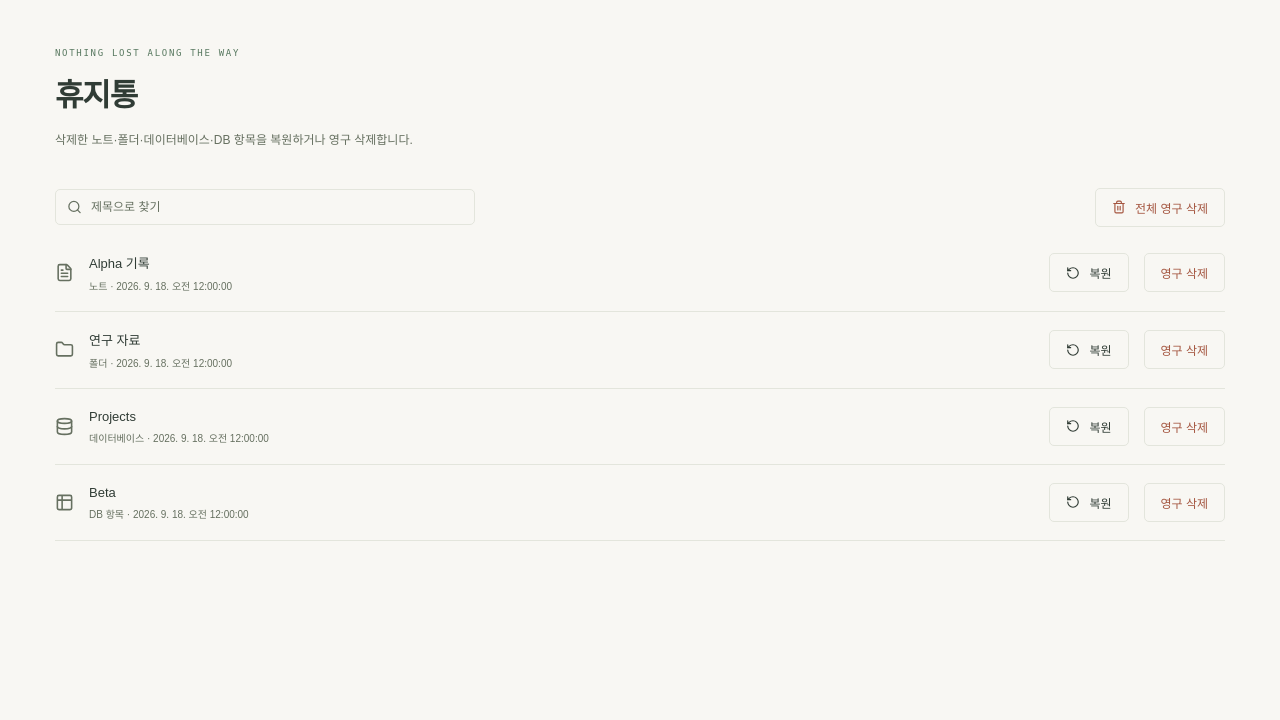
Test: a changed confirmation snapshot is never replaced or retried after a revision conflict
The image size is (1280, 720).
Click the button "영구 삭제" in the row of "Alpha 기록" at (1184, 273), box [1144,253,1225,292]
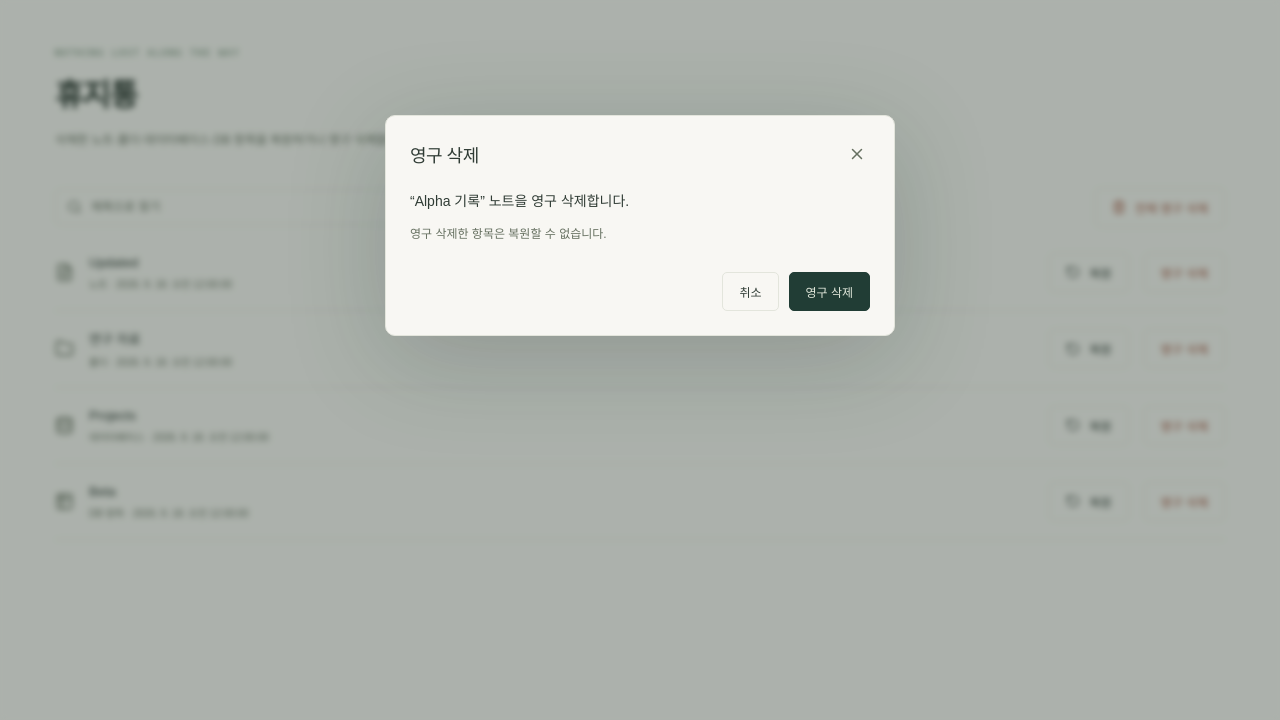
Submit the form, box [410,190,870,311]
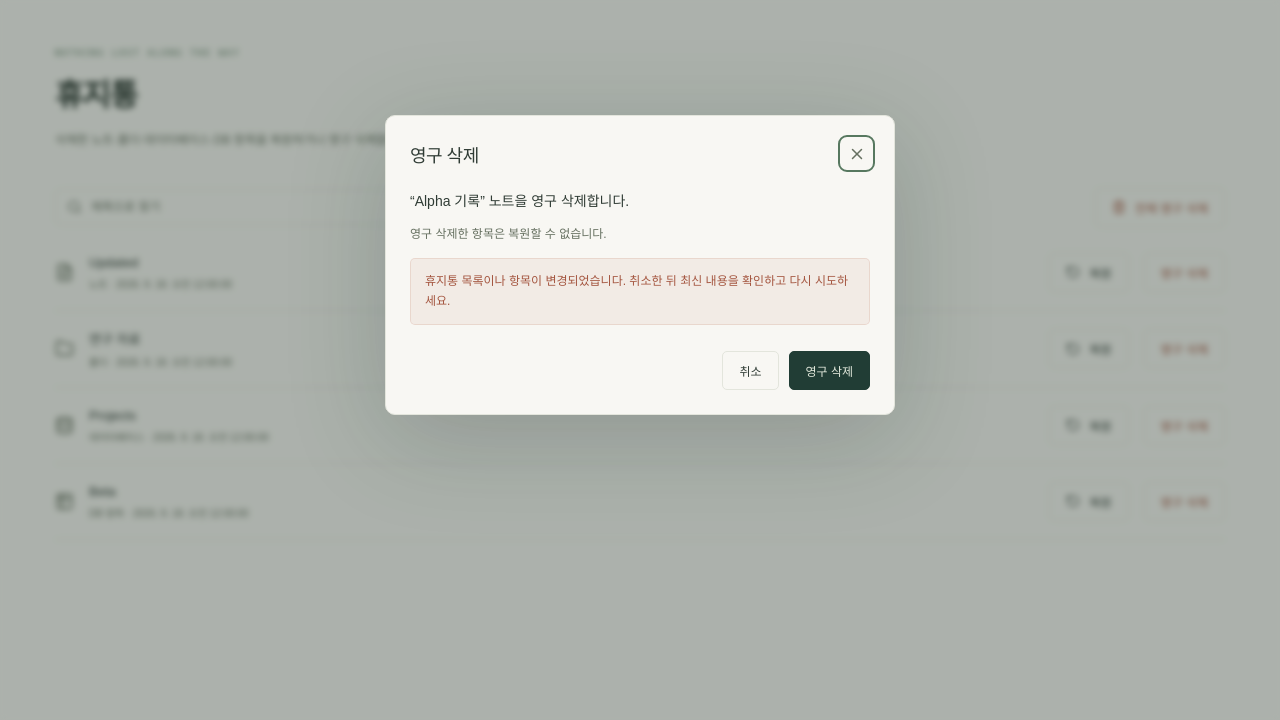
Result: the dialog is shown at [385,115,895,415]
Result: the message "휴지통 목록이나 항목이 변경되었습니다. 취소한 뒤 최신 내용을 확인하고 다시 시도하세요." is shown at [410,258,870,325]
